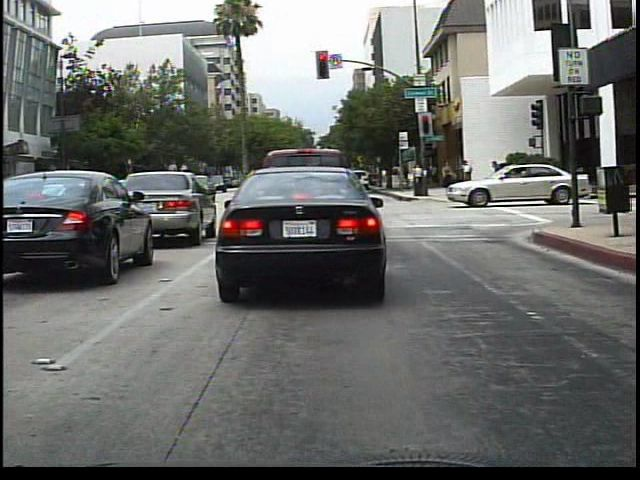person: (492, 155, 516, 203), (456, 159, 474, 196), (438, 158, 457, 190)
